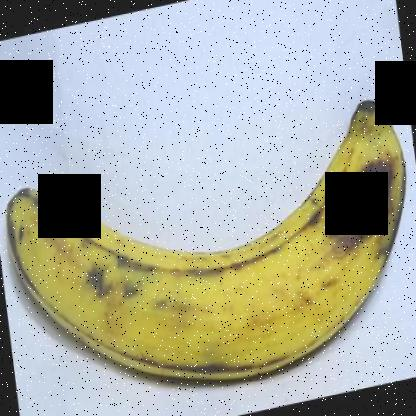ripe: (1, 83, 415, 386)
